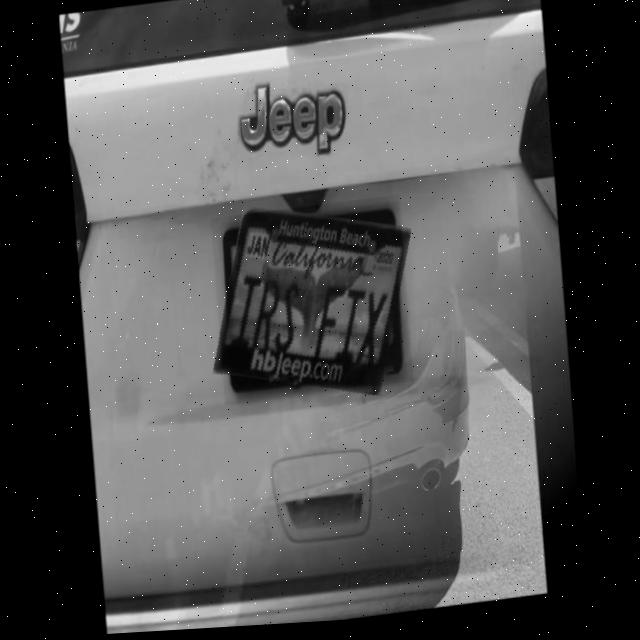LicensePlate: (210, 198, 413, 409)
